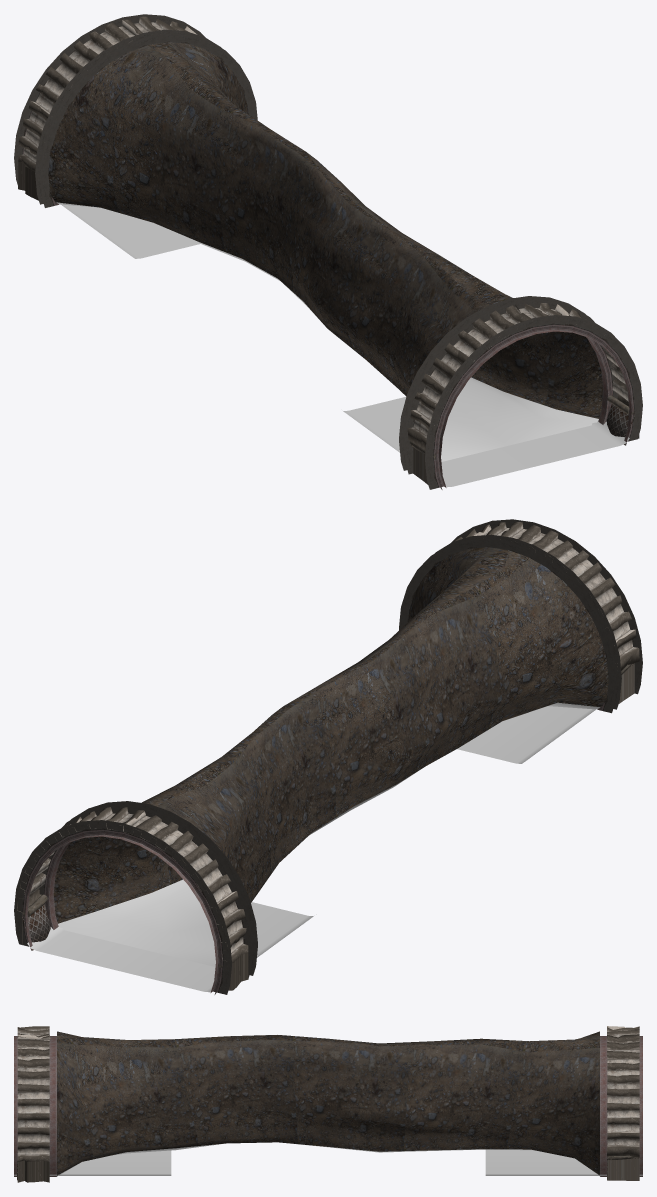
The model's file is constrained_tall.dae.
3 renders of one model, top to bottom at view 1: azimuth 30°, elevation 25°; view 2: azimuth 150°, elevation 25°; view 3: azimuth 270°, elevation 25°, orthographic. The views are drawn at different scales.
Parts seen in each view (by area): view 1: DirtWall, Walls, Ground; view 2: DirtWall, Walls, Ground; view 3: DirtWall, Walls, Ground.
Boxes of the visible parts, x1,y1,x2,y2 form: DirtWall: [48, 42, 603, 418]; Walls: [14, 14, 642, 489]; Ground: [56, 202, 629, 487]; DirtWall: [53, 547, 608, 923]; Walls: [14, 519, 642, 994]; Ground: [27, 702, 600, 992]; DirtWall: [57, 1031, 599, 1175]; Walls: [14, 1026, 642, 1182]; Ground: [14, 1142, 642, 1176].
Size of the model in its own units: 6.06 by 20 by 3.99.
